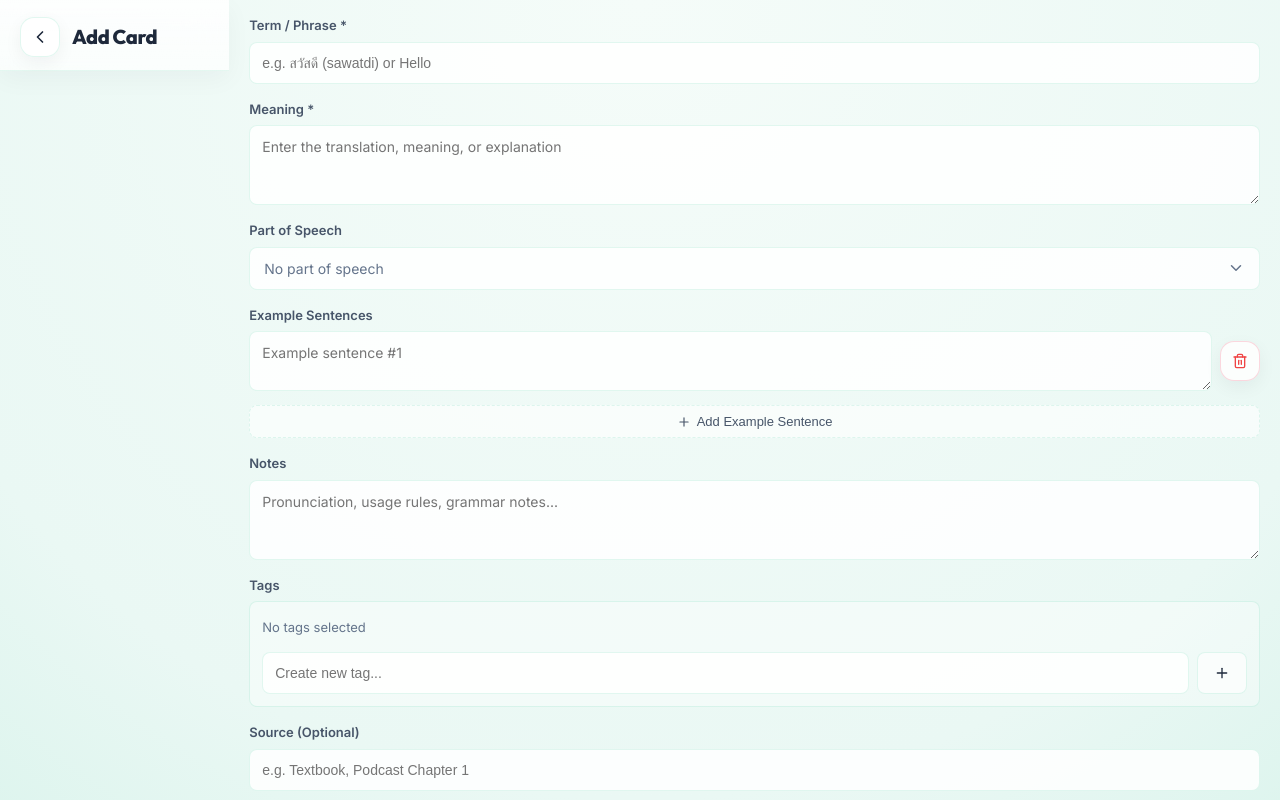
CardForm AI generation › fills empty fields from generated card info
Type "make up" into the field with placeholder "e.g. สวัสดี (sawatdi) or Hello".
click(755, 62); type("make up")  # box [249, 42, 1260, 84]
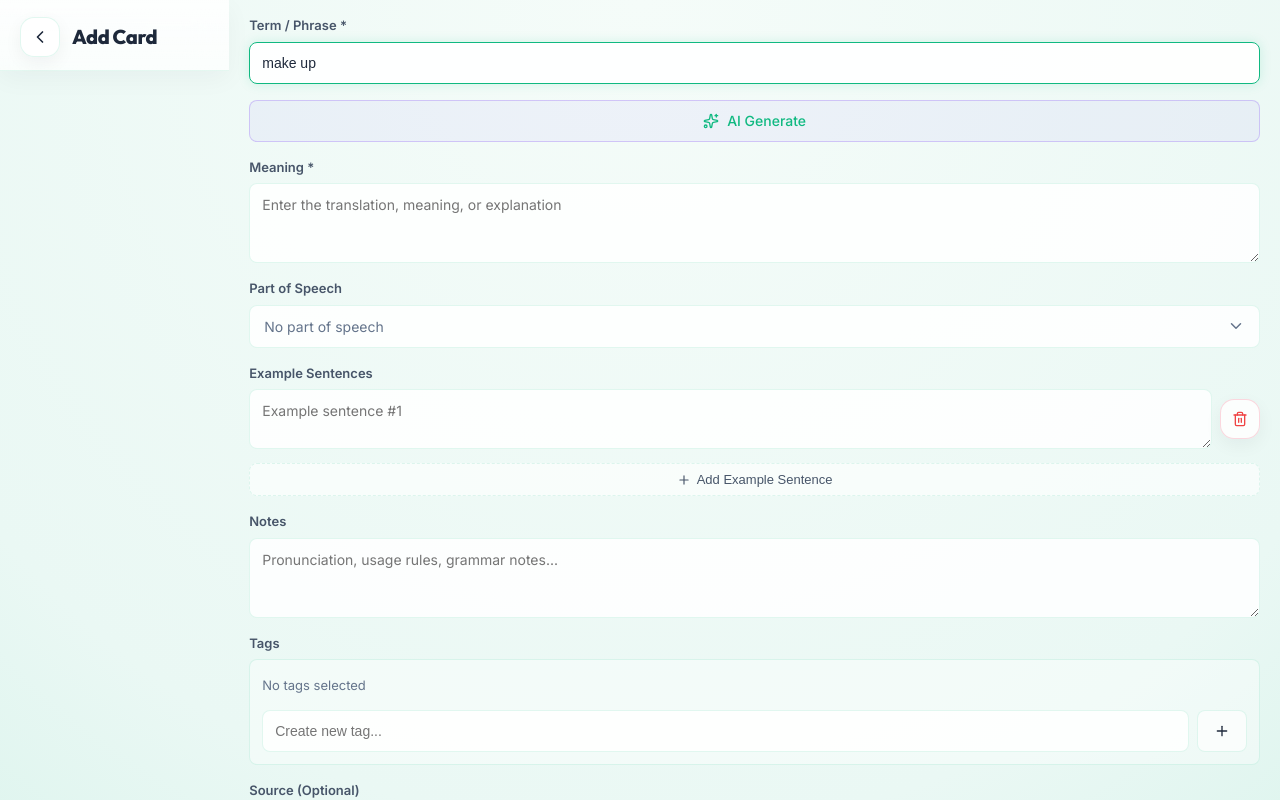
Click the button "AI Generate".
click(755, 120)  # box [249, 100, 1260, 142]
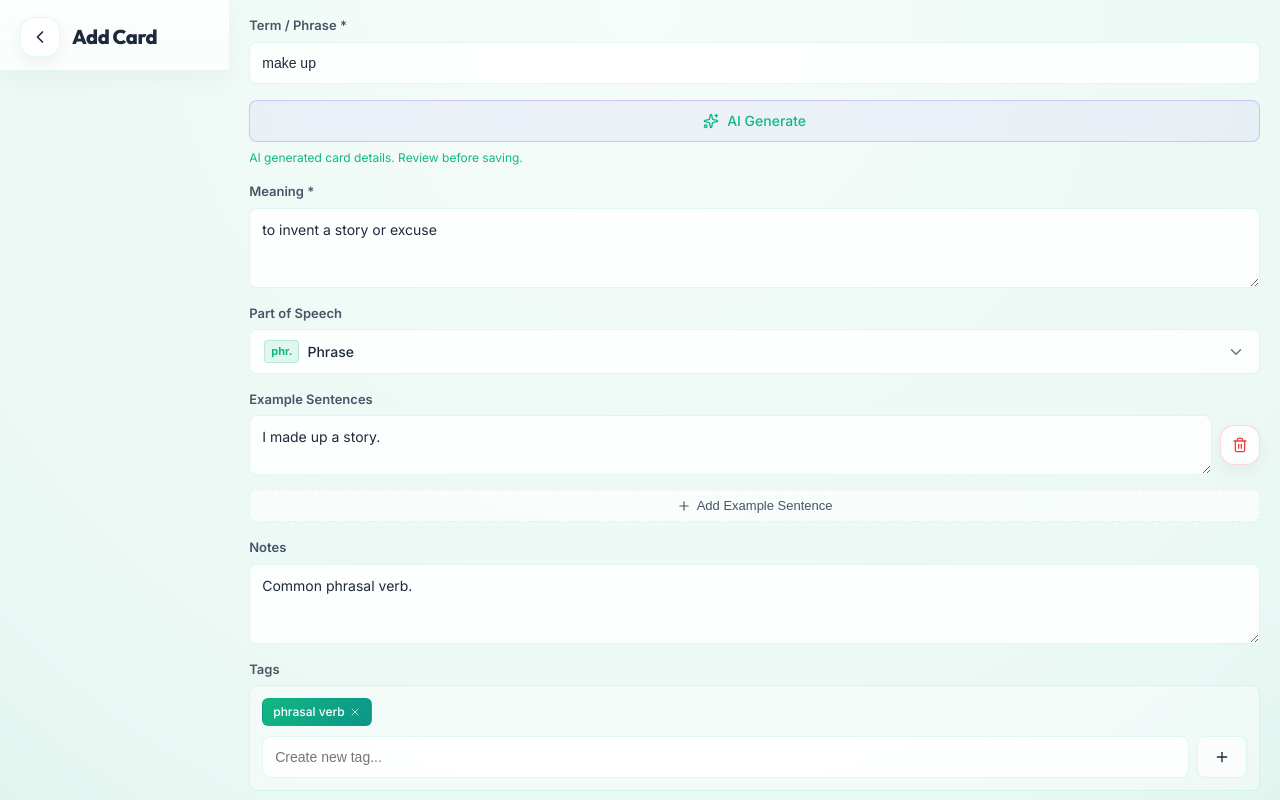
Expected: the text box with placeholder "Enter the translation, meaning, or explanation" below "Meaning *" holds "to invent a story or excuse", [249, 208, 1260, 288]
Expected: the text box with placeholder "Example sentence #1" below "Example Sentences" holds "I made up a story.", [249, 415, 1212, 475]
Expected: the text box with placeholder "Pronunciation, usage rules, grammar notes..." below "Notes" holds "Common phrasal verb.", [249, 564, 1260, 644]
